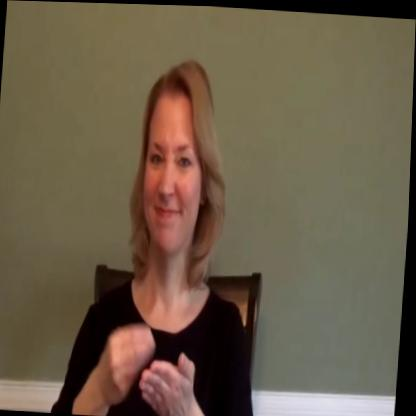Expensive: (90, 300, 218, 416)
